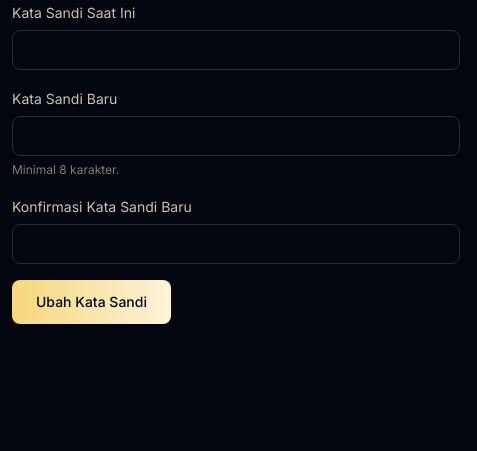
Test: AdminPasswordForm › sends a CSRF-safe PUT and only reports success after the server confirms
Type "correct-horse-battery" into the password field labelled "Kata Sandi Saat Ini" at (236, 50), box [12, 30, 460, 70]
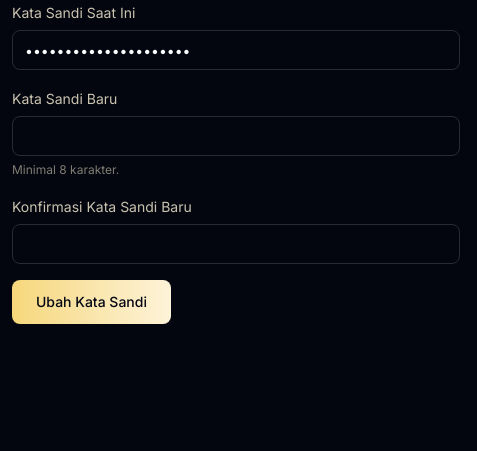
Type "brand-new-secret" into the password field labelled "Kata Sandi Baru" at (236, 136), box [12, 116, 460, 156]
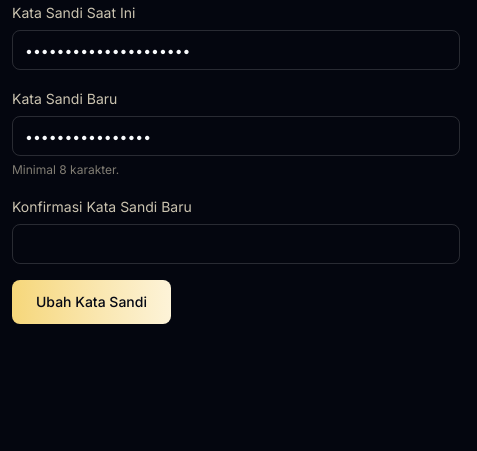
Type "brand-new-secret" into the password field labelled "Konfirmasi Kata Sandi Baru" at (236, 244), box [12, 224, 460, 264]
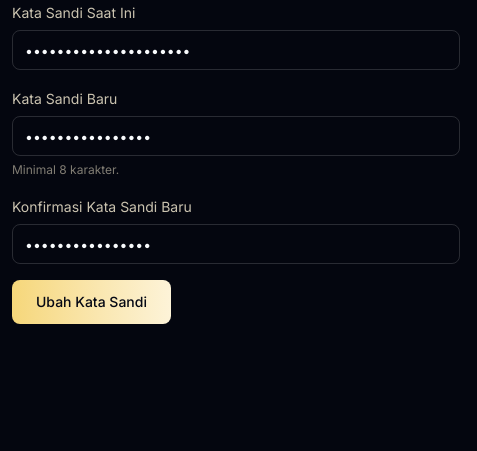
Click the button "Ubah Kata Sandi" at (92, 302), box [12, 280, 171, 324]
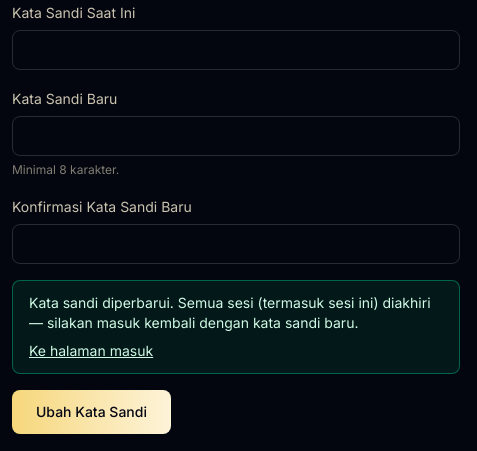
Expected: the message shows "Kata sandi diperbarui", [29, 294, 430, 331]
Expected: the password field labelled "Kata Sandi Saat Ini" is empty, [12, 30, 460, 70]
Expected: the password field labelled "Kata Sandi Baru" is empty, [12, 116, 460, 156]
